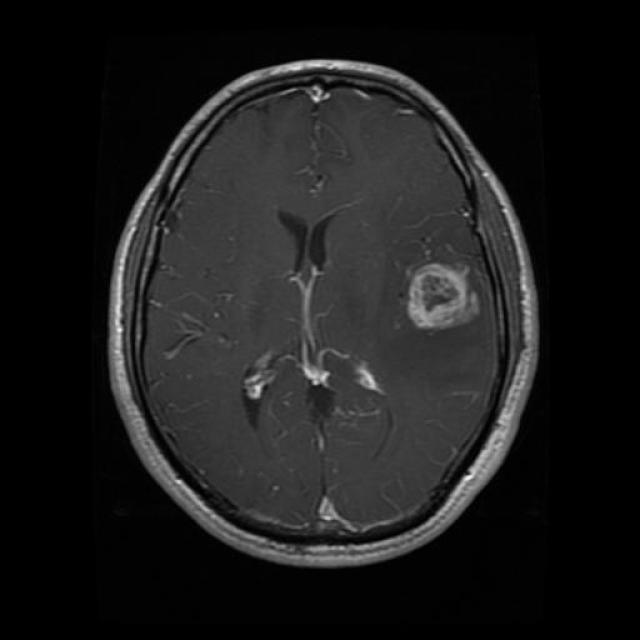glioma: (384, 248, 480, 347)
